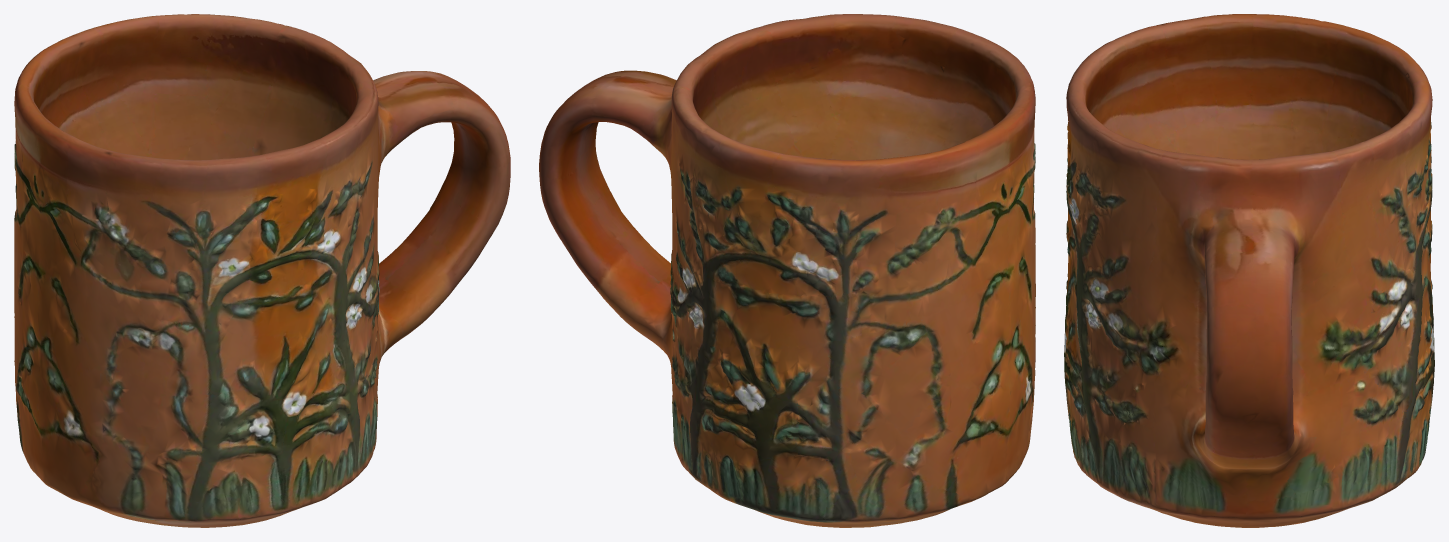
File: Mug with Sohrai Art.glb
The picture shows the model from 3 angles, left to right: view 1: azimuth 30°, elevation 25°; view 2: azimuth 150°, elevation 25°; view 3: azimuth 270°, elevation 25°; orthographic projection.
Size of the model in its own units: 1.9 by 1.55 by 1.33.
1 material, 1 textured.
